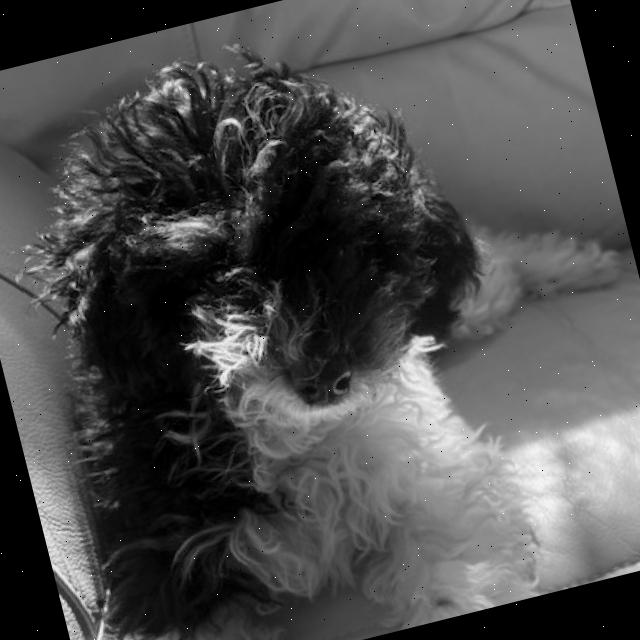Poodle_dog: (0, 0, 531, 556)
